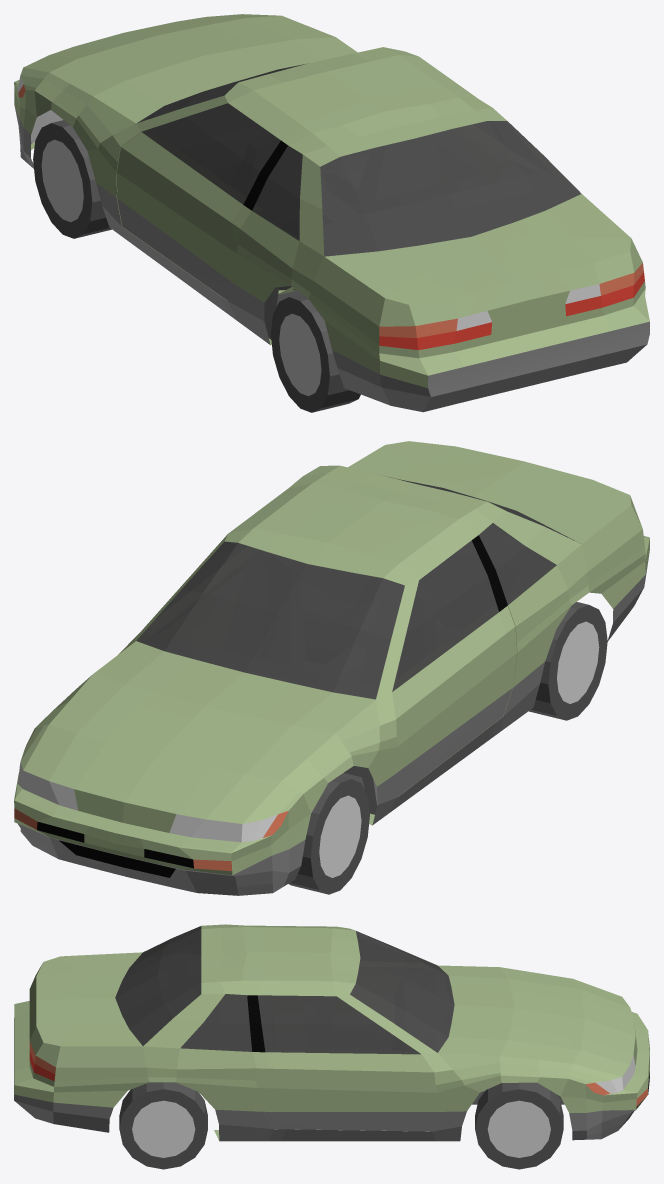
3 renders of one model, top to bottom at view 1: azimuth 30°, elevation 25°; view 2: azimuth 150°, elevation 25°; view 3: azimuth 270°, elevation 25°, orthographic. The views are drawn at different scales.
Visible parts, largest first — view 1: body, door_L, wheel_RL, wheel_FL, frame; view 2: body, door_L, wheel_FL, wheel_RL; view 3: body, door_R, wheel_FR, wheel_RR.
Part boxes in pixels (bbox=[...]): body: bbox=[14, 14, 649, 412]; door_L: bbox=[116, 103, 287, 300]; wheel_RL: bbox=[270, 294, 360, 412]; wheel_FL: bbox=[33, 120, 111, 238]; frame: bbox=[264, 286, 301, 339]; body: bbox=[14, 441, 649, 895]; door_L: bbox=[392, 535, 516, 796]; wheel_FL: bbox=[288, 776, 369, 894]; wheel_RL: bbox=[529, 602, 607, 720]; body: bbox=[14, 924, 649, 1141]; door_R: bbox=[247, 995, 436, 1131]; wheel_FR: bbox=[475, 1082, 563, 1169]; wheel_RR: bbox=[119, 1082, 207, 1169].
Bounding box in the file's own units: 2.3 × 1.74 × 6.02.
